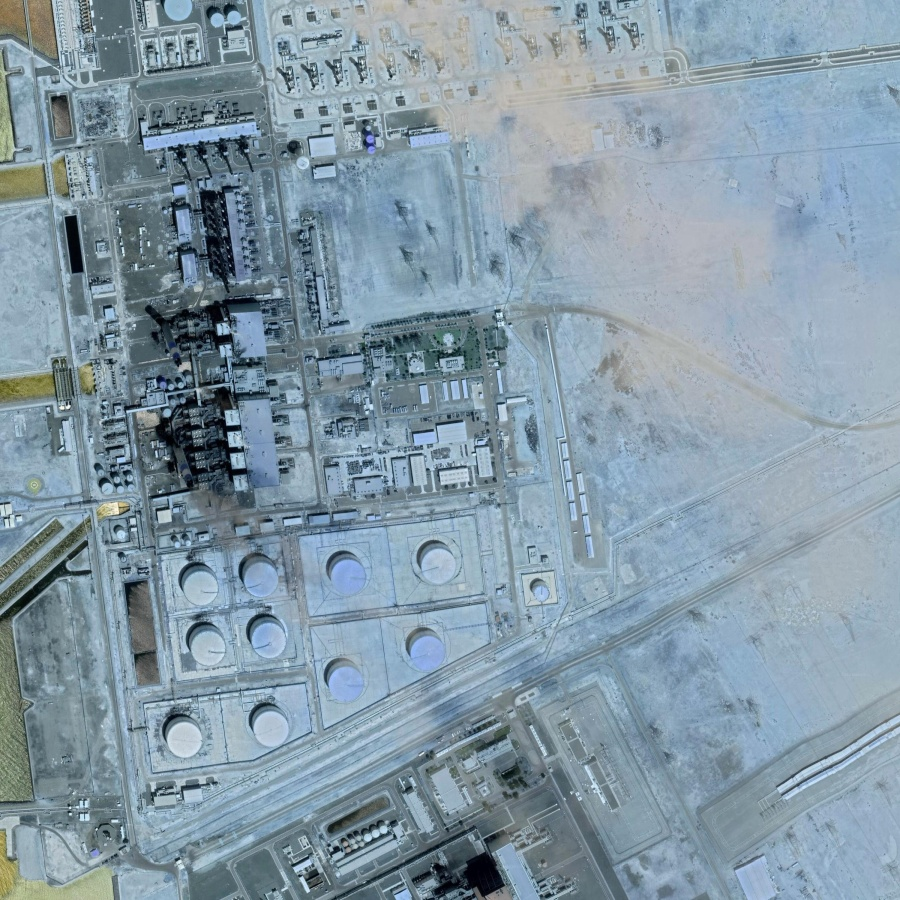PowerPlant: (112, 516, 492, 779), (92, 177, 314, 493)
